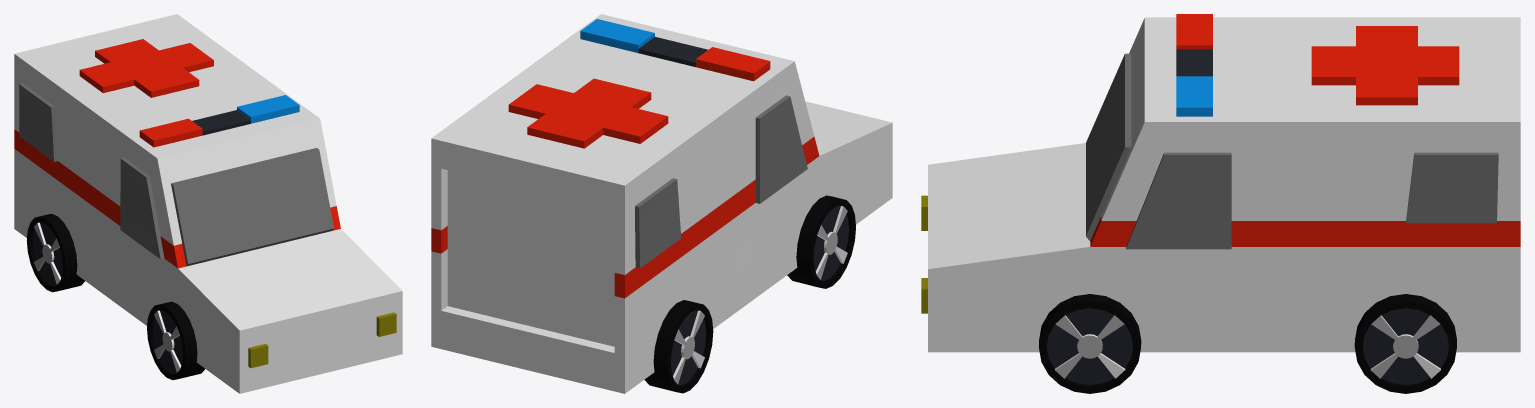
The model's file is mshAmbulance.fbx.
3 renders of one model, left to right at view 1: azimuth 30°, elevation 25°; view 2: azimuth 150°, elevation 25°; view 3: azimuth 270°, elevation 25°, orthographic. The views are drawn at different scales.
Parts seen in each view (by area): view 1: chasis, rfWheel, rfWheel2; view 2: chasis, leftDoor, rightDoor, rfWheel, rfWheel2; view 3: chasis, rfWheel3, rfWheel1.
Boxes of the visible parts, <box> form: chasis: <box>14,14,402,393</box>; rfWheel: <box>147,301,204,380</box>; rfWheel2: <box>26,214,84,292</box>; chasis: <box>431,14,892,393</box>; leftDoor: <box>447,170,534,326</box>; rightDoor: <box>534,191,614,346</box>; rfWheel: <box>787,195,855,288</box>; rfWheel2: <box>644,300,713,393</box>; chasis: <box>921,14,1520,352</box>; rfWheel3: <box>1354,294,1456,393</box>; rfWheel1: <box>1039,294,1141,393</box>.
Bounding box in the file's own units: 5.79 × 6.18 × 12.28.
